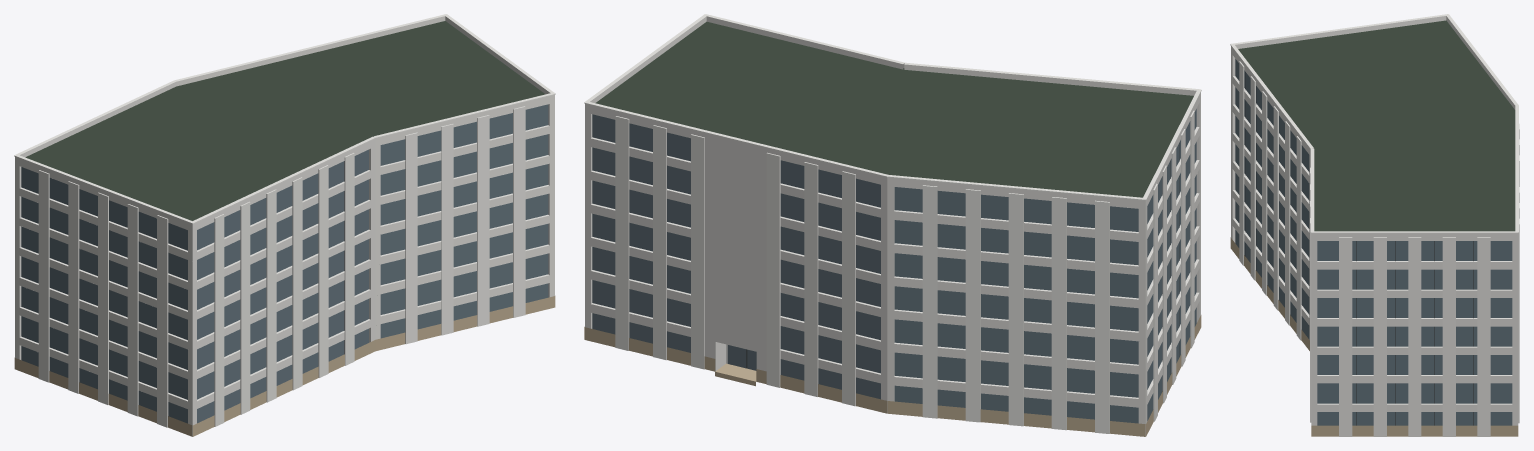
3 views of the same model, side by side, from view 1: azimuth 30°, elevation 25°; view 2: azimuth 150°, elevation 25°; view 3: azimuth 270°, elevation 25° (orthographic). The views are drawn at different scales.
Parts seen in each view (by area): view 1: eh202__glass, eh202__roof, eh202__trim, eh202__wall, eh202__parapet, eh202__base; view 2: eh202__roof, eh202__glass, eh202__trim, eh202__wall, eh202__parapet, eh202__base; view 3: eh202__roof, eh202__trim, eh202__glass, eh202__wall, eh202__parapet, eh202__base, eh202__frame.
Boxes of the visible parts, x1,y1,x2,y2 form: eh202__glass: (21,104,548,423); eh202__roof: (25,21,545,220); eh202__trim: (14,14,555,427); eh202__wall: (15,98,554,436); eh202__parapet: (15,16,554,227); eh202__base: (14,296,555,436); eh202__roof: (595,21,1193,197); eh202__glass: (592,109,1196,423); eh202__trim: (584,14,1201,433); eh202__wall: (585,95,1200,436); eh202__parapet: (585,16,1200,204); eh202__base: (584,315,1201,436); eh202__roof: (1238,20,1515,231); eh202__trim: (1230,14,1519,436); eh202__glass: (1235,59,1512,425); eh202__wall: (1231,49,1518,425); eh202__parapet: (1231,16,1518,236); eh202__base: (1230,237,1518,436); eh202__frame: (1245,72,1473,425).
Size of the model in its own units: 51.1 by 22.6 by 28.53.
